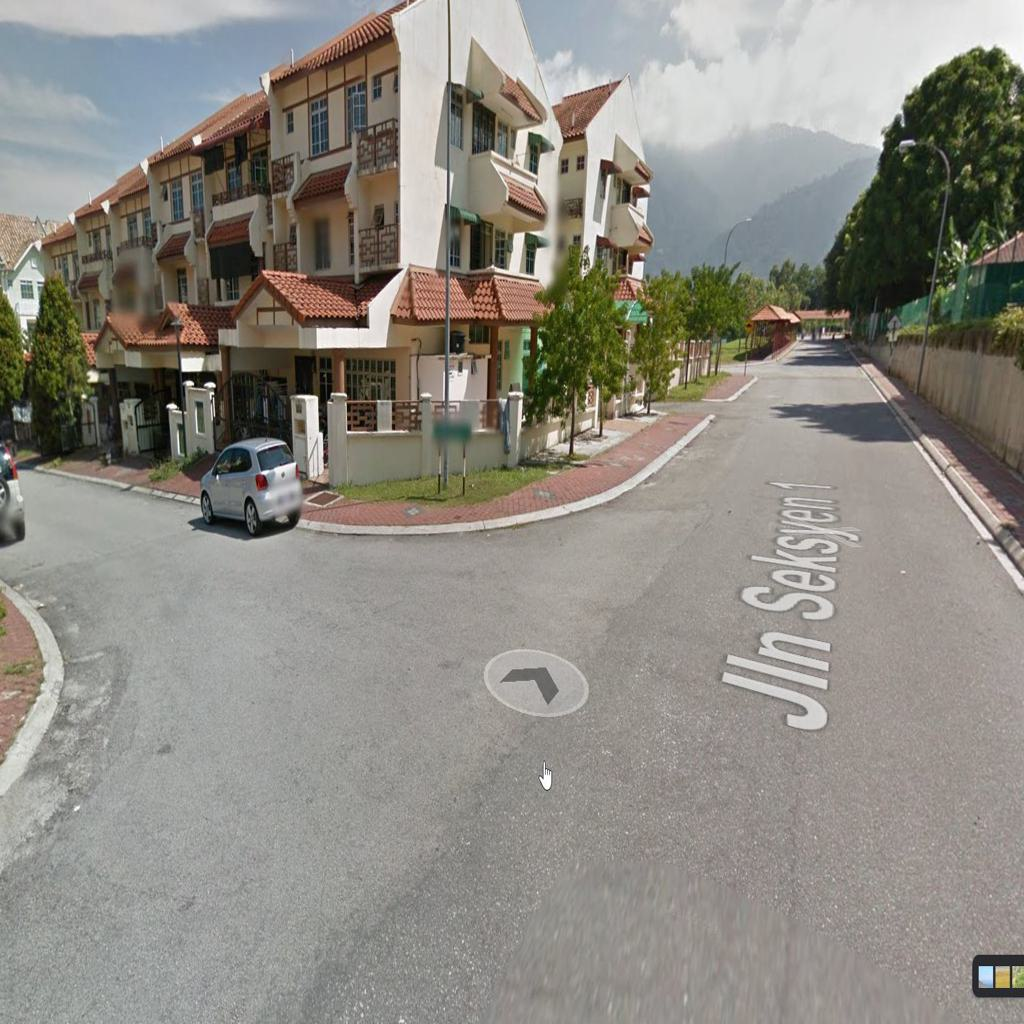Junction: (23, 487, 542, 812)
